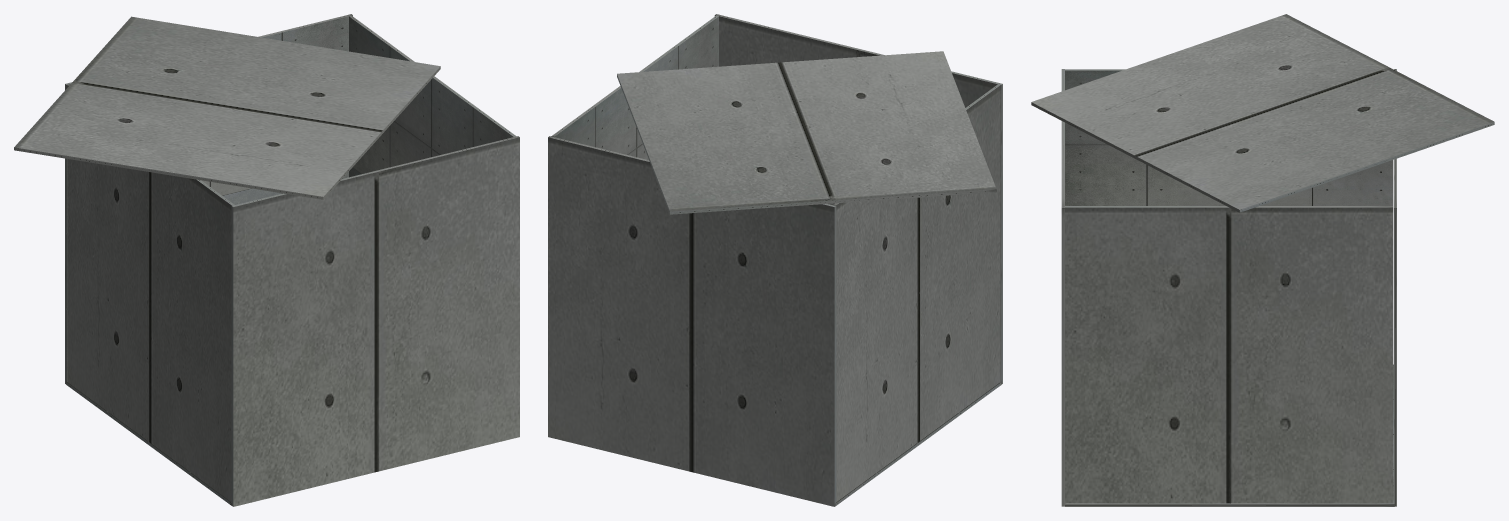
File: room4.gltf
3 views of the same model, side by side, from view 1: azimuth 30°, elevation 25°; view 2: azimuth 150°, elevation 25°; view 3: azimuth 270°, elevation 25° (orthographic).
Visible parts, largest first — view 1: Cube.001, Cube.091, Cube.005, Cube.006, Cube.003, Cube; view 2: Cube.003, Cube.091, Cube.005, Cube.001, Cube.006, Cube; view 3: Cube.006, Cube.091, Cube.005, Cube.001, Cube, Cube.003.
Boxes of the visible parts, x1,y1,x2,y2 form: Cube.001: (231,136,519,506); Cube.091: (14,16,440,199); Cube.005: (67,84,234,501); Cube.006: (349,15,516,177); Cube.003: (65,14,352,384); Cube: (66,382,231,505); Cube.003: (548,136,836,506); Cube.091: (617,51,996,214); Cube.005: (833,84,1000,501); Cube.001: (714,14,1002,384); Cube.006: (551,15,718,160); Cube: (835,382,1001,505); Cube.006: (1065,206,1393,503); Cube.091: (1031,14,1494,212); Cube.005: (1065,69,1393,205); Cube.001: (1061,69,1064,506); Cube: (1065,364,1394,506); Cube.003: (1394,69,1396,506).
Size of the model in its own units: 14.07 by 10.11 by 14.07.
7 materials, 1 textured.
